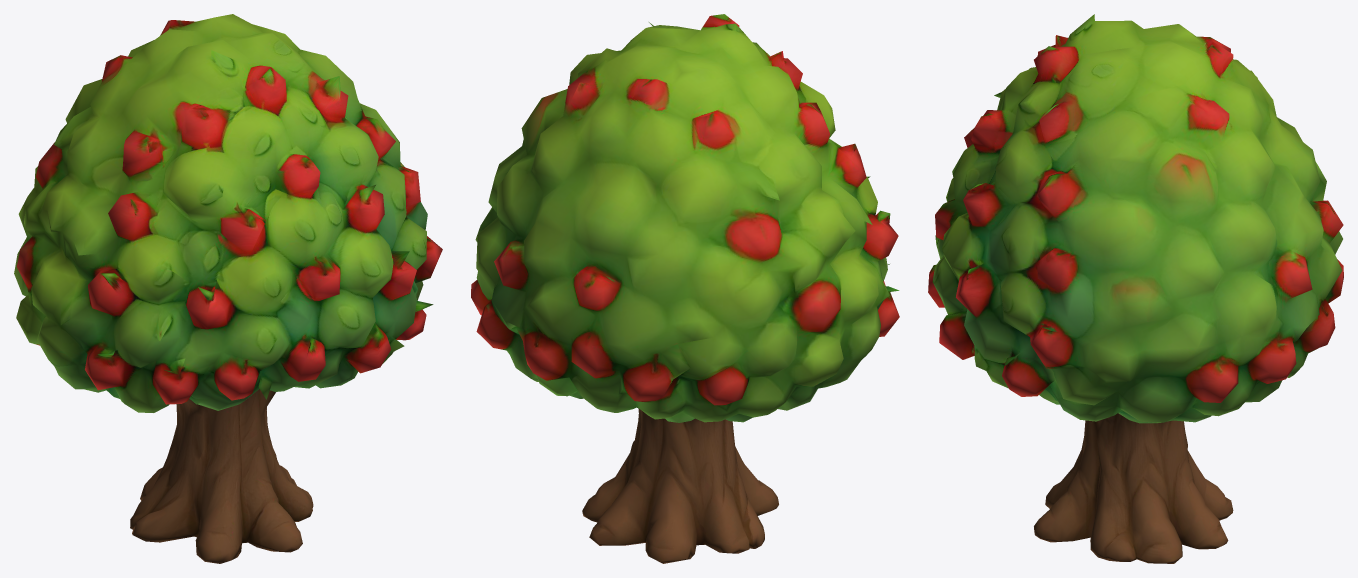
The model's file is apple tree 3d model.glb.
3 views of the same model, side by side, from view 1: azimuth 30°, elevation 25°; view 2: azimuth 150°, elevation 25°; view 3: azimuth 270°, elevation 25° (orthographic).
Visible parts, largest first — view 1: tripo_node_fac2aa50-d553-4c87-bf4d-1f02937bdbe0; view 2: tripo_node_fac2aa50-d553-4c87-bf4d-1f02937bdbe0; view 3: tripo_node_fac2aa50-d553-4c87-bf4d-1f02937bdbe0.
Boxes of the visible parts, x1=… form: tripo_node_fac2aa50-d553-4c87-bf4d-1f02937bdbe0: x1=14, y1=14, x2=442, y2=563; tripo_node_fac2aa50-d553-4c87-bf4d-1f02937bdbe0: x1=471, y1=14, x2=899, y2=563; tripo_node_fac2aa50-d553-4c87-bf4d-1f02937bdbe0: x1=928, y1=14, x2=1343, y2=563.
Size of the model in its own units: 0.799 by 1 by 0.7606.
1 material, 1 textured.
